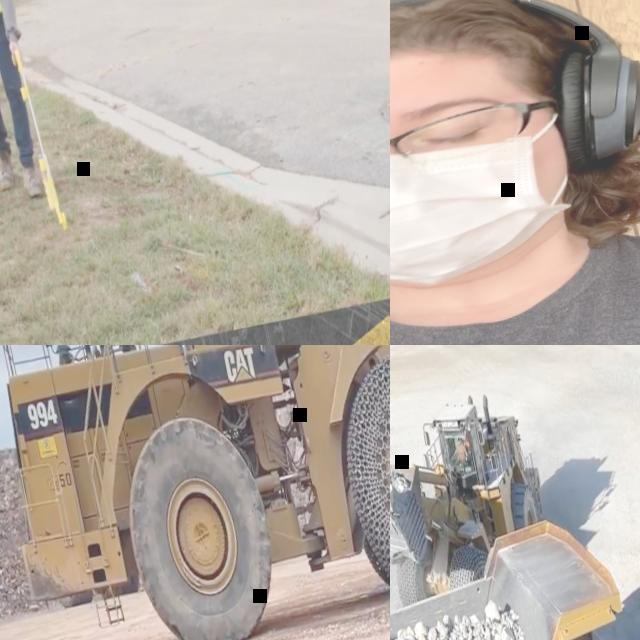Hardhat: (390, 0, 576, 127)
Mask: (390, 115, 587, 306)
NO-Hardhat: (457, 437, 462, 442)
NO-Safety Vest: (390, 205, 640, 345), (457, 444, 466, 460)
Person: (390, 0, 640, 345), (0, 0, 57, 208), (452, 436, 468, 464)
vehicle: (0, 345, 390, 640), (390, 377, 564, 640), (390, 501, 640, 640)
